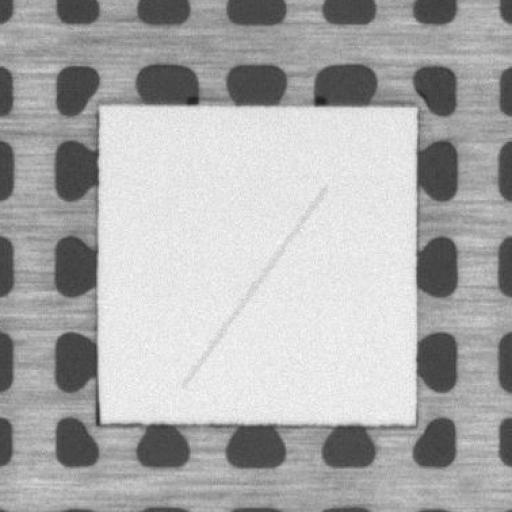DIE_CRACK: (181, 187, 324, 386)
